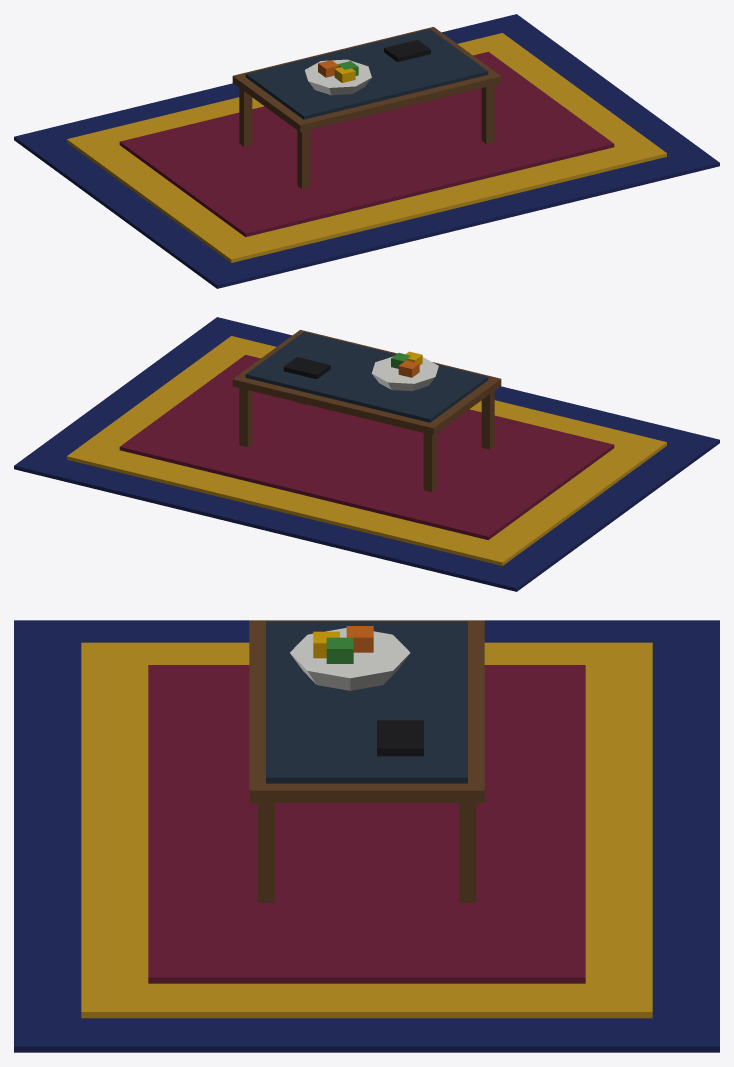
The model's file is prop_centre-table.95a9b59b21d2.glb.
The picture shows the model from 3 angles, top to bottom: view 1: azimuth 30°, elevation 25°; view 2: azimuth 150°, elevation 25°; view 3: azimuth 270°, elevation 25°; orthographic projection. The views are drawn at different scales.
Visible parts, largest first — view 1: body; view 2: body; view 3: body.
Boxes of the visible parts, <box> form: body: <box>14,14,719,288</box>; body: <box>14,317,719,591</box>; body: <box>14,620,719,1052</box>.
Size of the model in its own units: 3 by 0.57 by 2.1.
